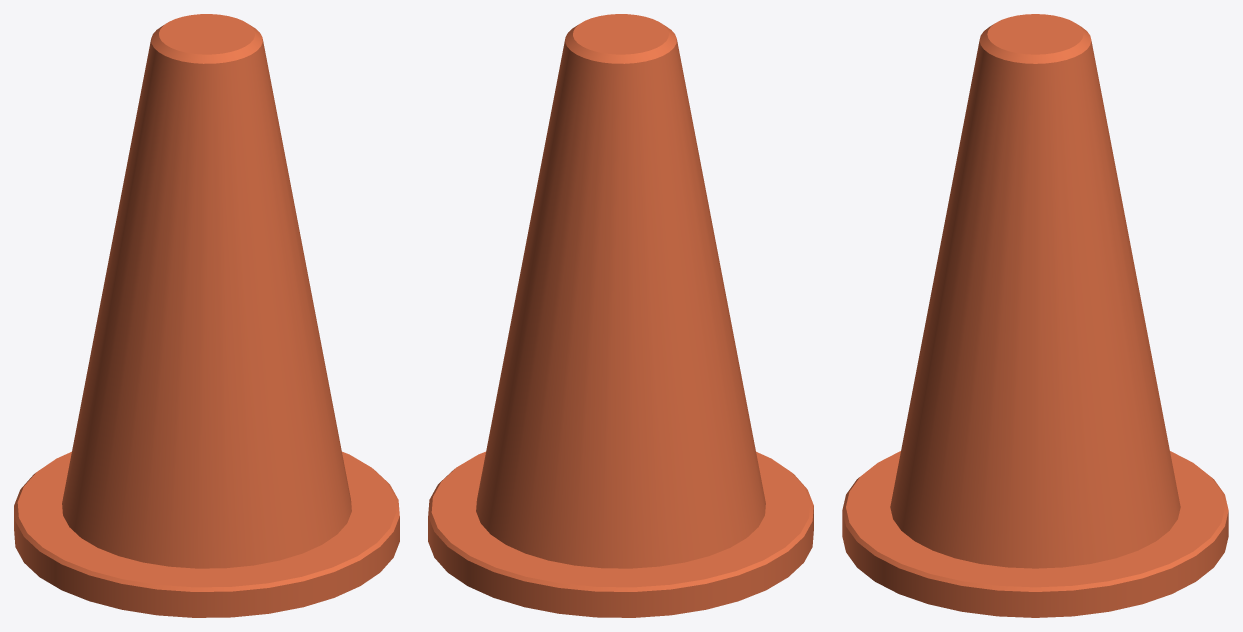
The model's file is konys.fbx.
3 renders of one model, left to right at view 1: azimuth 30°, elevation 25°; view 2: azimuth 150°, elevation 25°; view 3: azimuth 270°, elevation 25°, orthographic.
Visible parts, largest first — view 1: Circle; view 2: Circle; view 3: Circle.
Boxes of the visible parts, x1,y1,x2,y2 form: Circle: (14, 14, 399, 617); Circle: (428, 14, 813, 617); Circle: (842, 14, 1228, 617).
Size of the model in its own units: 36.83 by 52.79 by 36.83.
